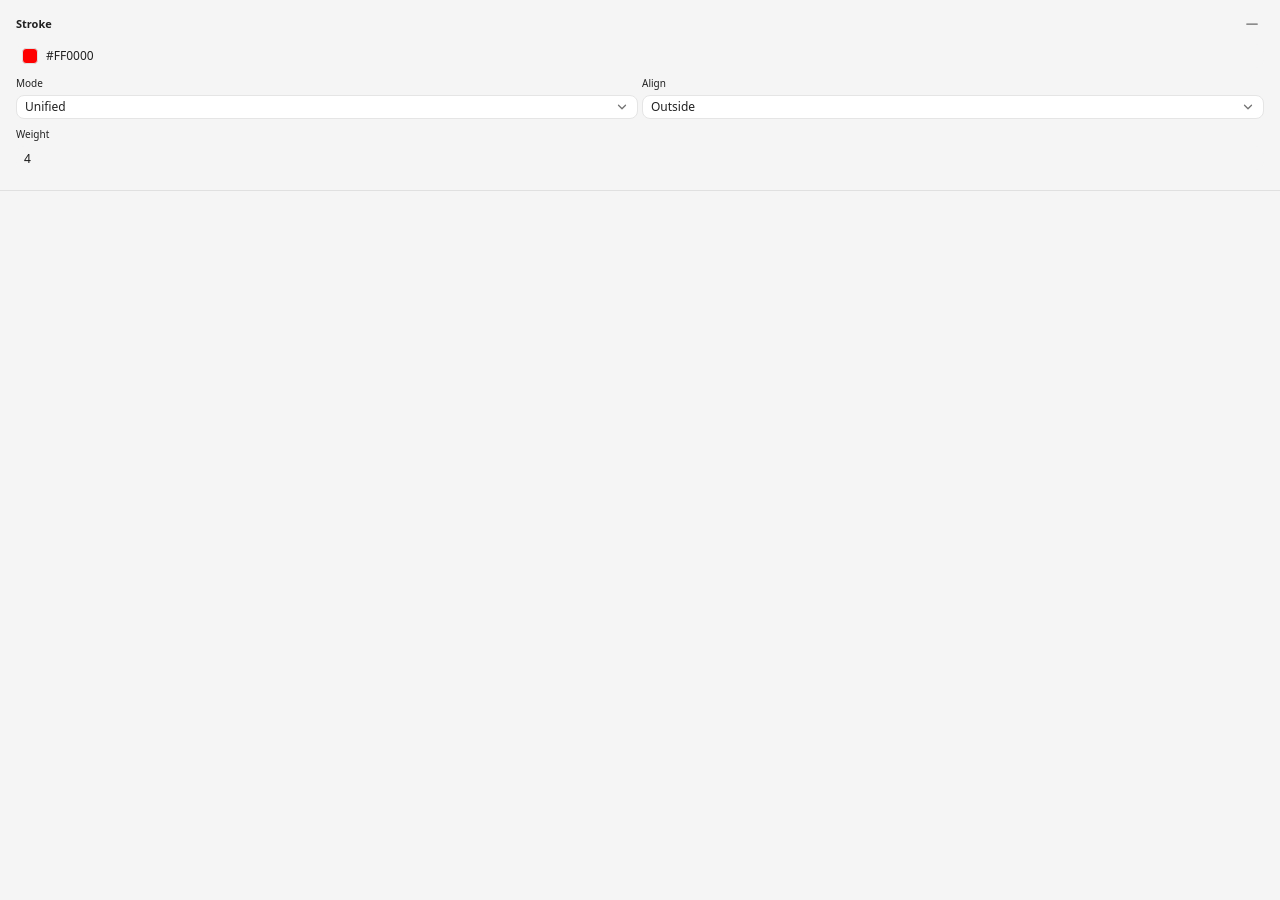
Test case: <StrokeSection /> › unified stroke › renders current color, opacity, align and weight
This screenshot has width=1280, height=900.
Click the button titled "Edit stroke": (70, 56) [16, 44, 1264, 68]
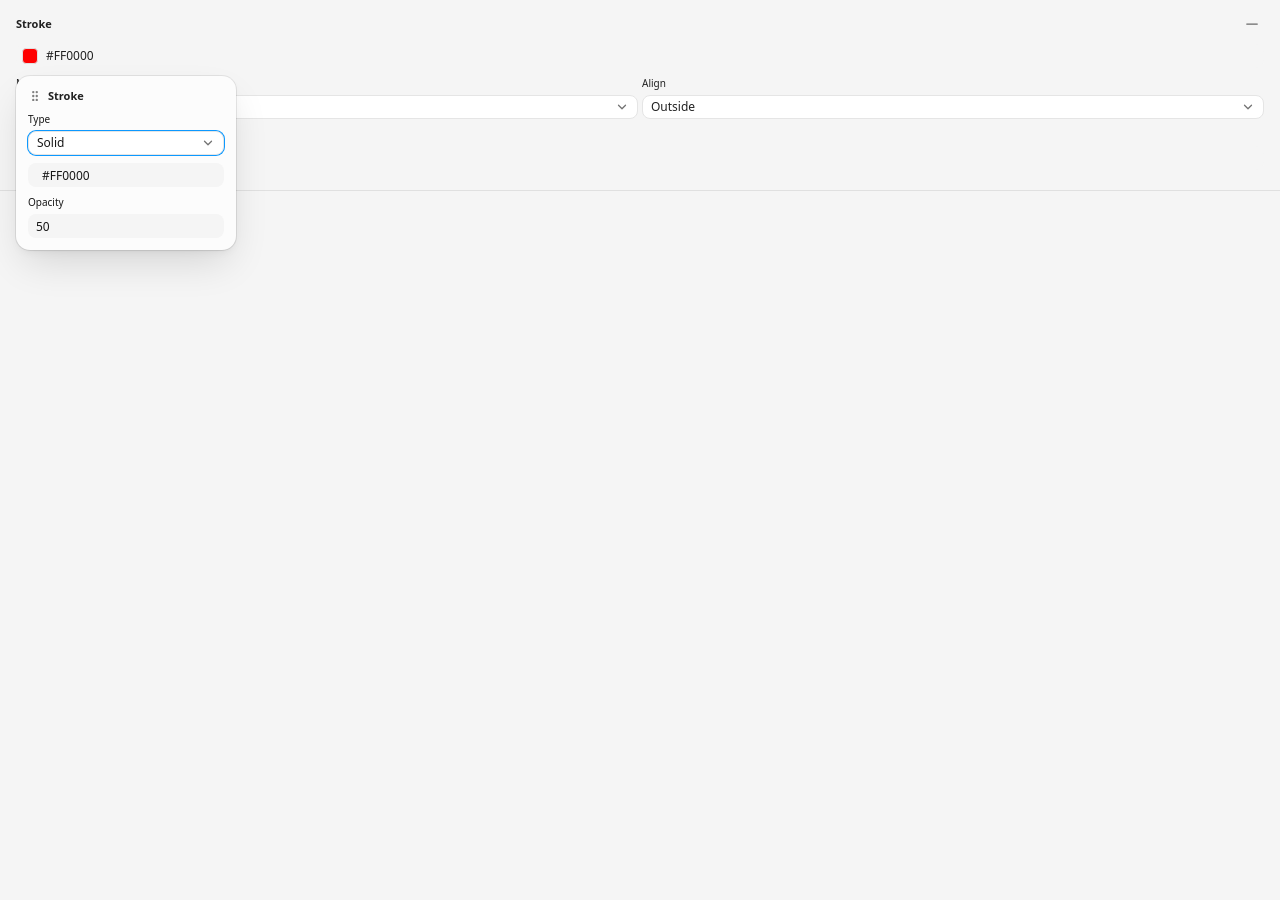
Check: the number field below "Weight" holds "4", box [16, 146, 1264, 170]
Check: the field showing "#FF0000" holds "#FF0000", box [36, 163, 224, 187]
Check: the number field below "Opacity" holds "50", box [28, 214, 224, 238]
